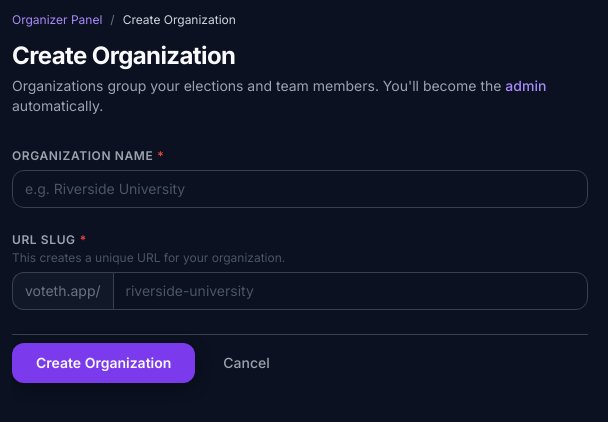
it: CreateOrganizationPage Error Handling & Submission › renders form and auto-generates slug from organization name
The image size is (608, 422).
Type "GCET College" into the field with placeholder "e.g. Riverside University" at (300, 189), box [12,170,588,208]
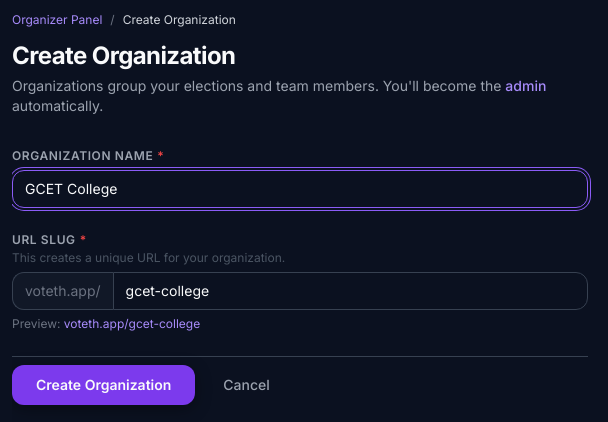
Expected: the field with placeholder "riverside-university" below "URL Slug" holds "gcet-college", [112,272,588,310]
